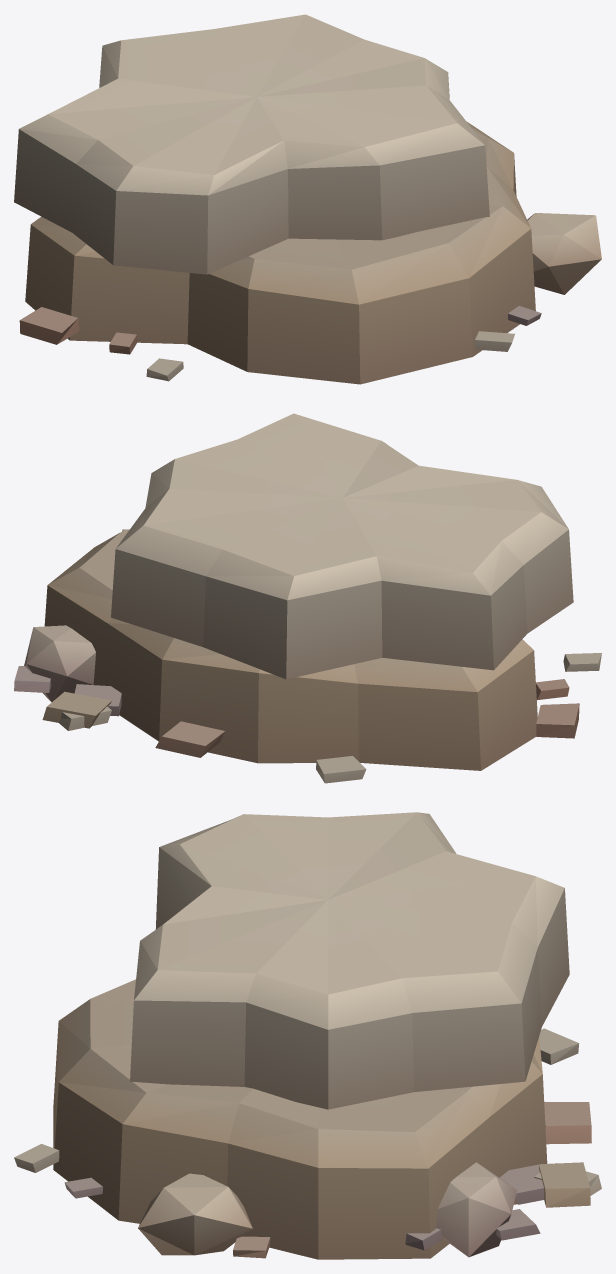
Rendered from sandstone_quarried_a.glb.
3 views of the same model, one above another, from view 1: azimuth 30°, elevation 25°; view 2: azimuth 150°, elevation 25°; view 3: azimuth 270°, elevation 25° (orthographic). The views are drawn at different scales.
Visible parts, largest first — view 1: sandstone_quarried_a; view 2: sandstone_quarried_a; view 3: sandstone_quarried_a.
Part boxes in pixels (bbox=[...]): sandstone_quarried_a: bbox=[14, 14, 601, 384]; sandstone_quarried_a: bbox=[14, 413, 601, 783]; sandstone_quarried_a: bbox=[14, 812, 601, 1259].
Size of the model in its own units: 1.78 by 0.6741 by 1.56.
